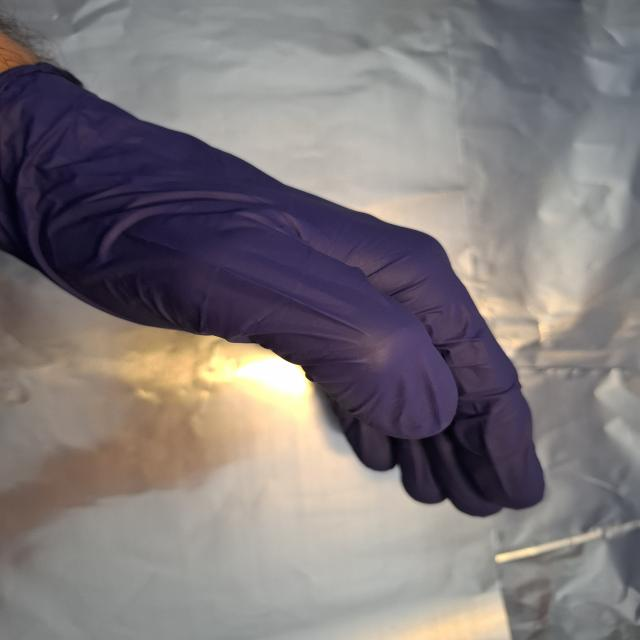glove_on: (0, 58, 549, 519)
